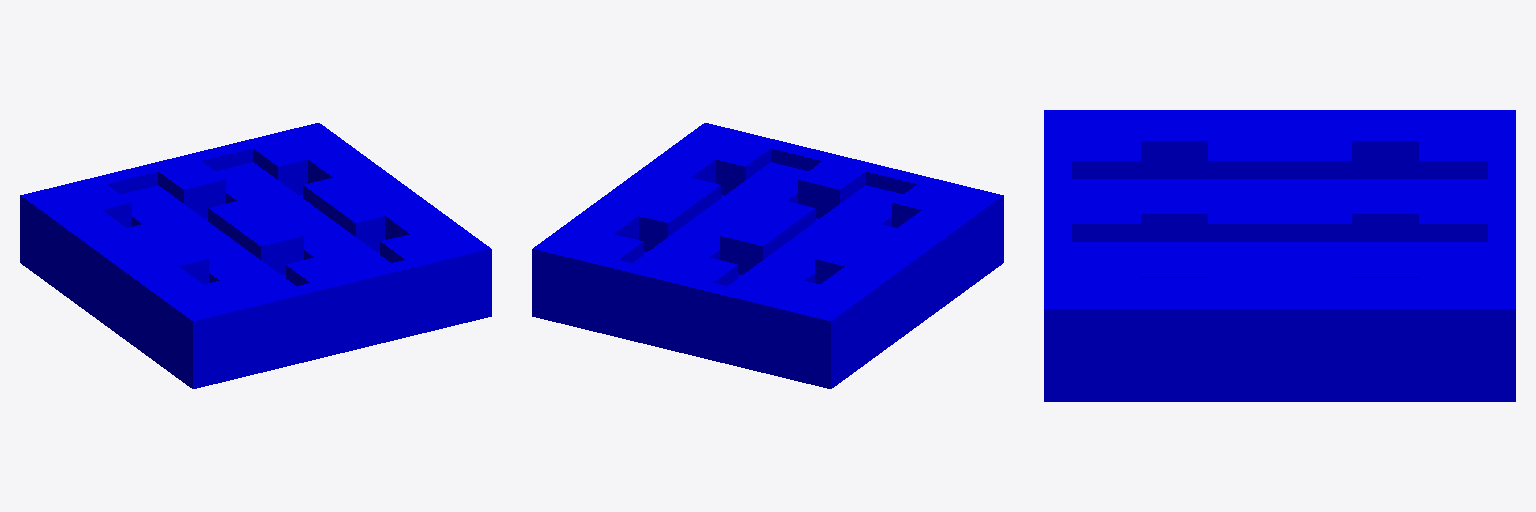
URDF robot description (board3_base):
<?xml version="1.0"?>
<robot name="board3_base">
    <link name="board3_base">
        <visual>
            <origin xyz="0 0 0 " rpy=" 0 0 0"/>
            <geometry>
                <mesh filename="./MOMO_Board3_Base.stl" scale="0.001 0.001 0.001"/>
            </geometry>
            <material name="red">
                <color rgba="0.0 0.0 1.0 1.0"/>
            </material>
        </visual>
        <collision>
            <origin xyz="0 0 0" rpy="0 0 0"/>
            <geometry>
                <mesh filename="./MOMO_Board3_Base.stl" scale="0.001 0.001 0.001"/>
            </geometry>
        </collision>
    </link>
</robot>

--- Facts derived from the render (not from the file) ---
3 views of the same robot in one strip: view 1: azimuth 30°, elevation 25°; view 2: azimuth 150°, elevation 25°; view 3: azimuth 270°, elevation 25° (orthographic).
Model board3_base with 1 links and 0 joints (none), rooted at board3_base, posed every joint at zero.
Visible links, largest first — view 1: board3_base; view 2: board3_base; view 3: board3_base.
Link boxes in pixels (box(x1,y1,x2,y2)): board3_base: box(20, 123, 491, 388); board3_base: box(532, 123, 1003, 388); board3_base: box(1044, 110, 1515, 401).
Size in the robot's own frame: 0.23 by 0.23 by 0.05 metres.
Meshes: 1 distinct files referenced, 1 mesh visuals loaded (1 ASCII STL).